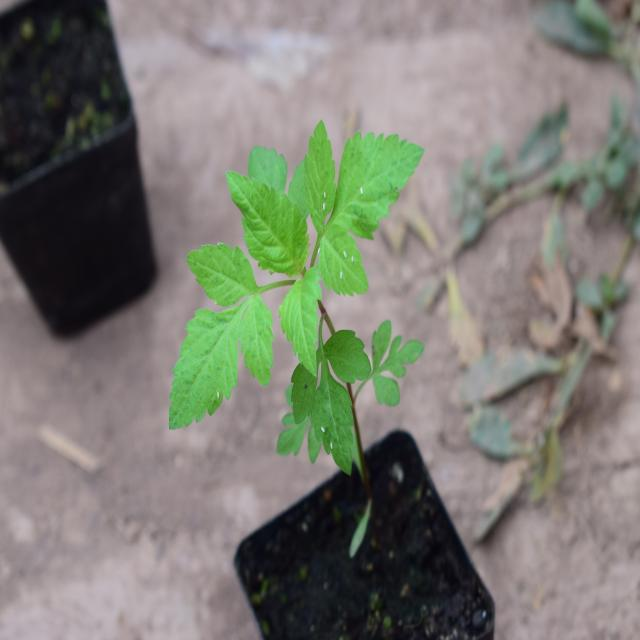Bidens pilosa: (167, 90, 421, 507)
